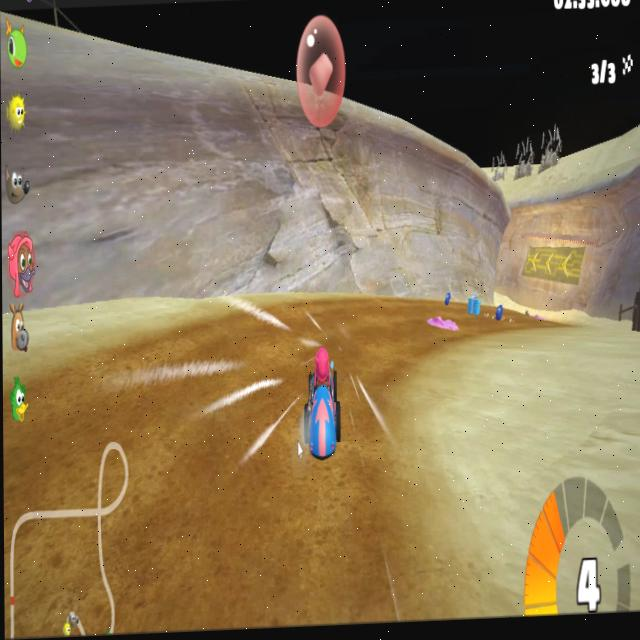bonus: (467, 287, 482, 318)
nitro: (443, 288, 454, 307), (499, 301, 505, 323)
obstacle: (427, 313, 466, 344)
player_kart: (291, 343, 349, 469)
track: (45, 361, 288, 638), (290, 480, 409, 627), (291, 295, 422, 343), (352, 354, 395, 468), (166, 328, 285, 363), (508, 305, 540, 328)
